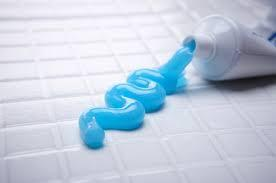toothpaste: (178, 8, 276, 79)
